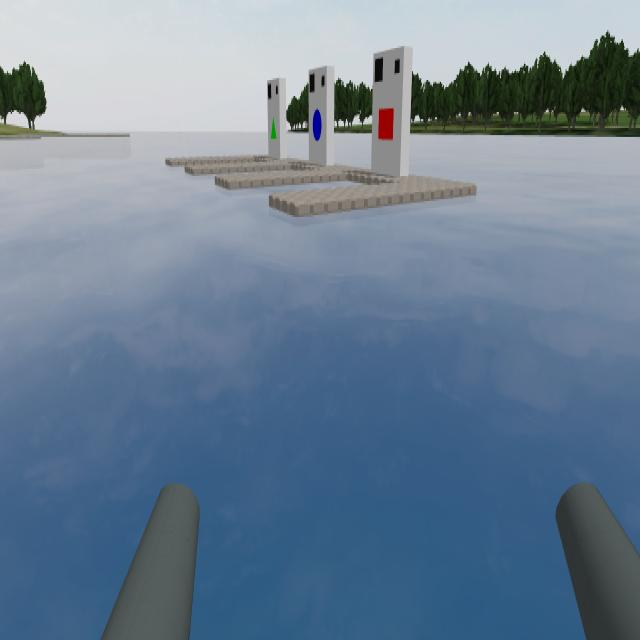dock: (370, 46, 412, 174), (308, 68, 335, 164), (266, 79, 288, 159)
